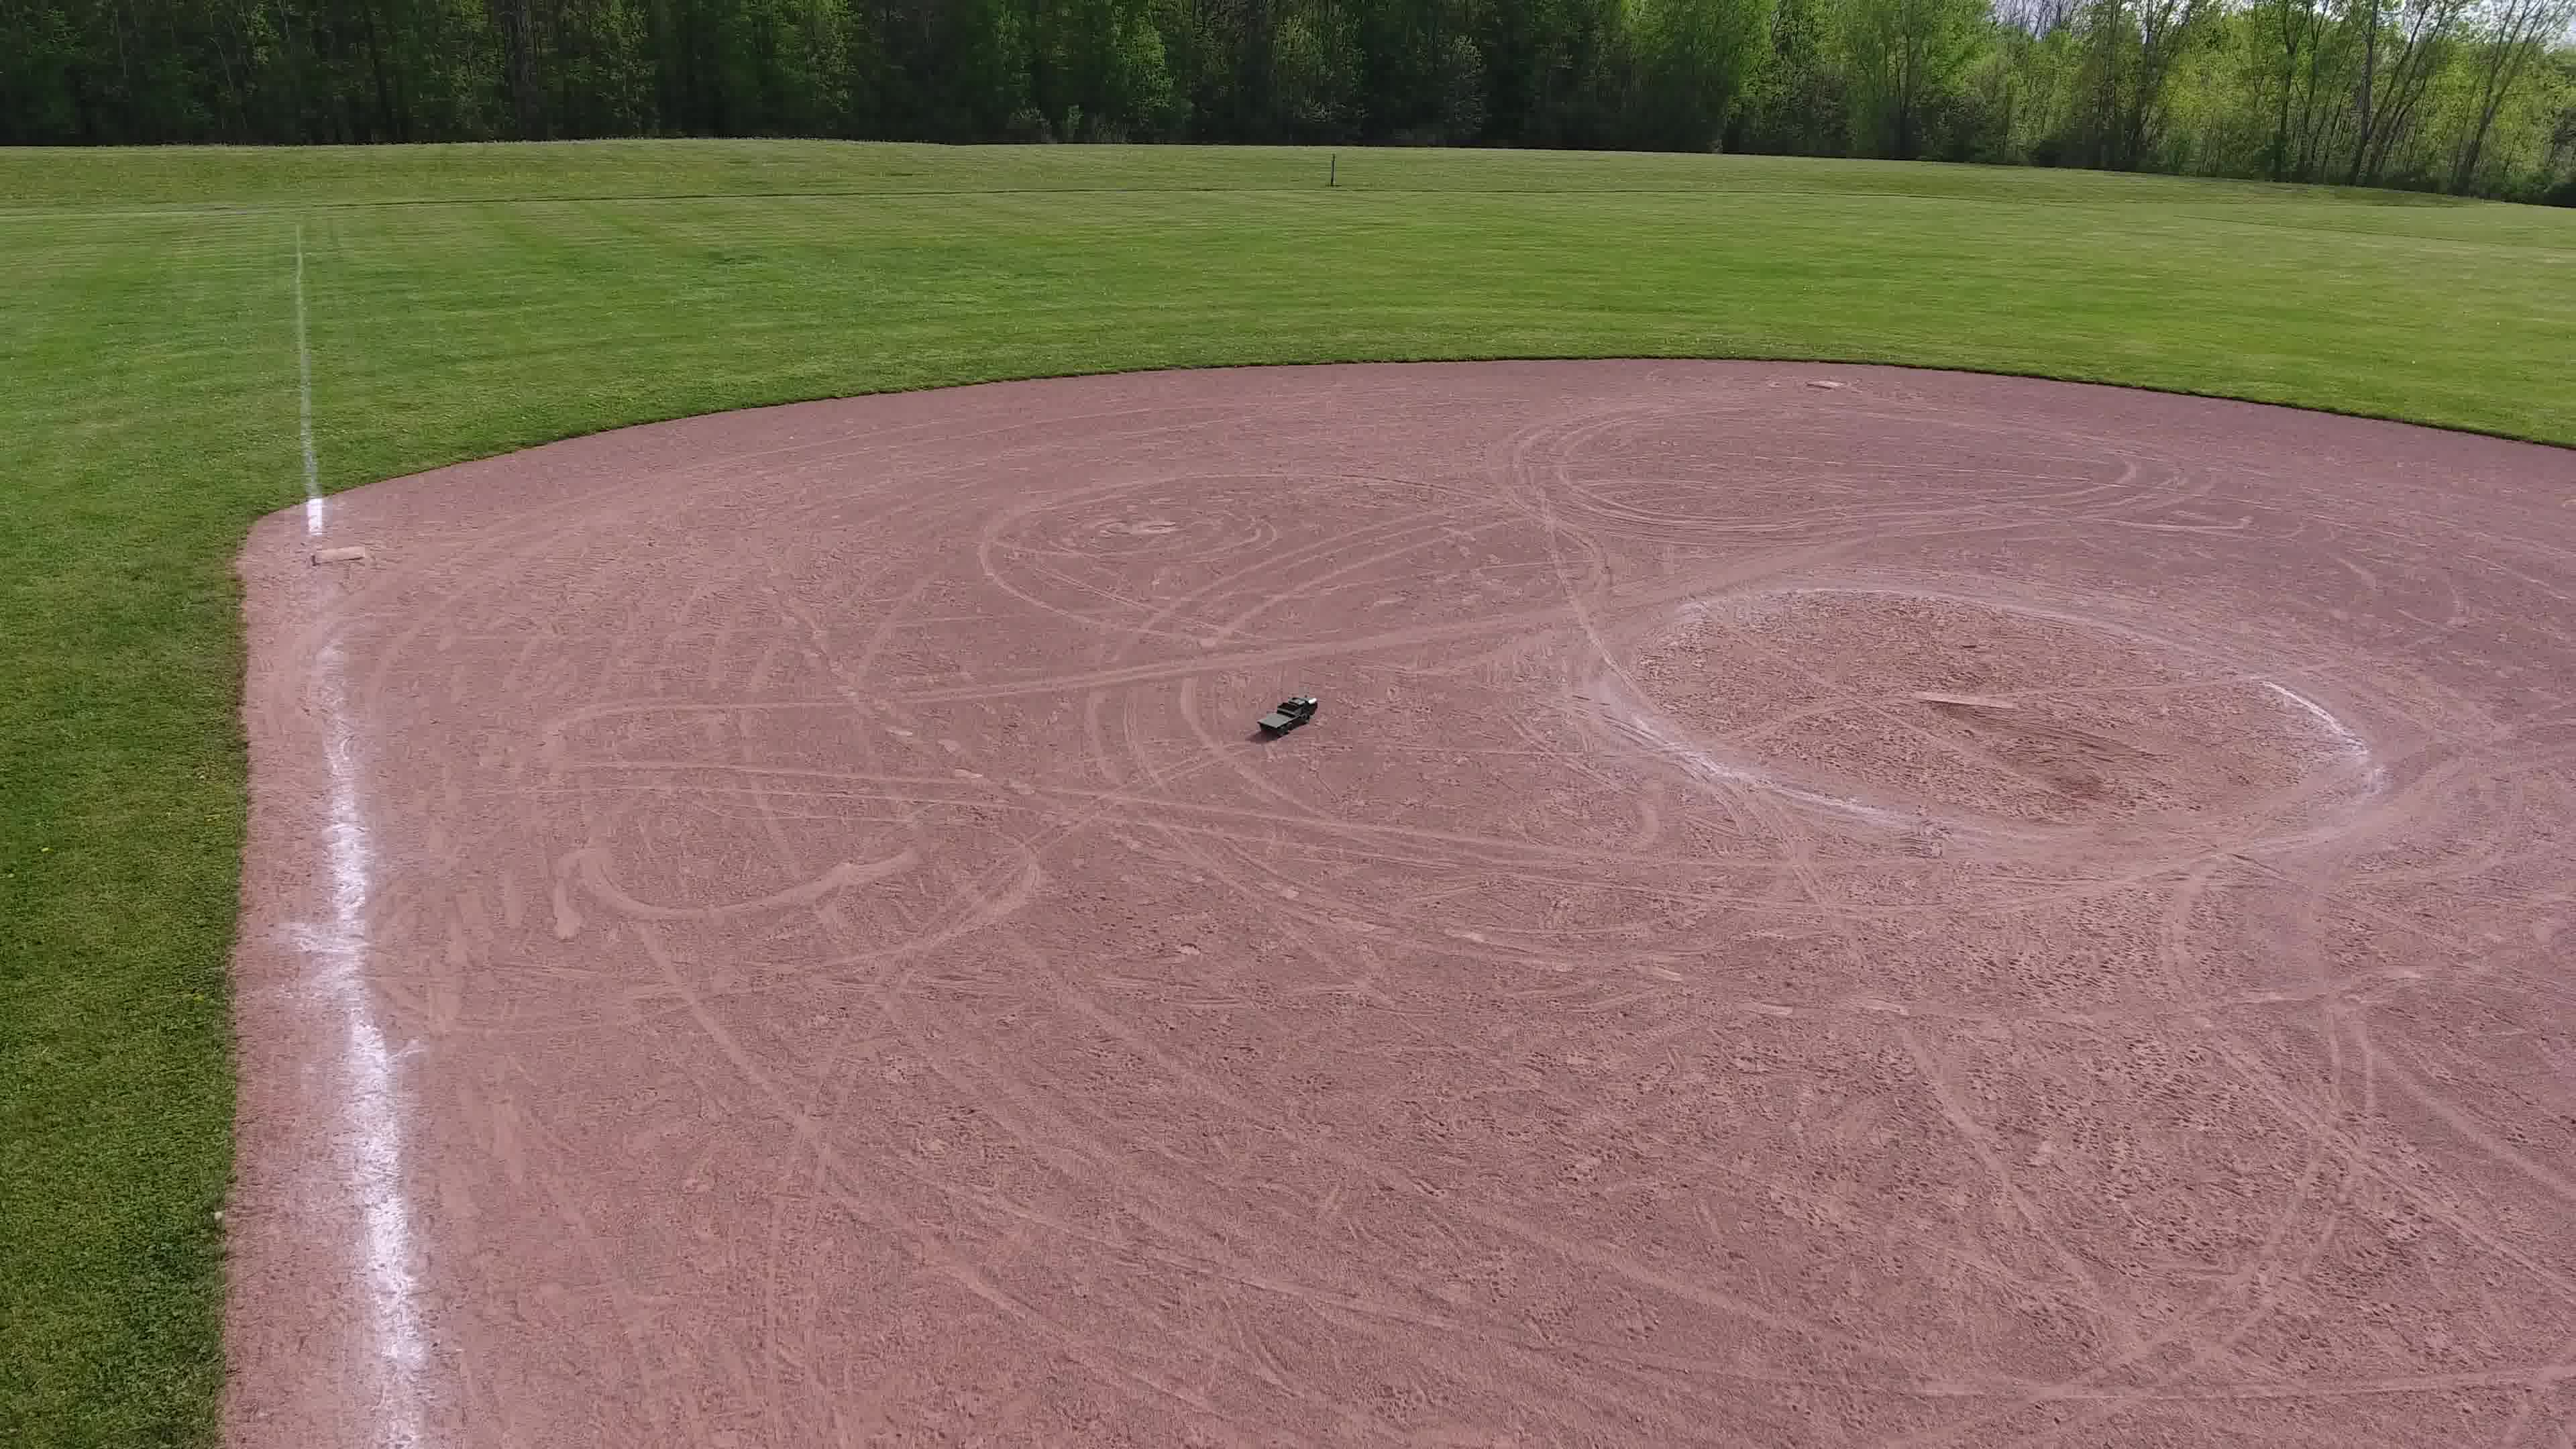transporter9: (1254, 692, 1322, 736)
